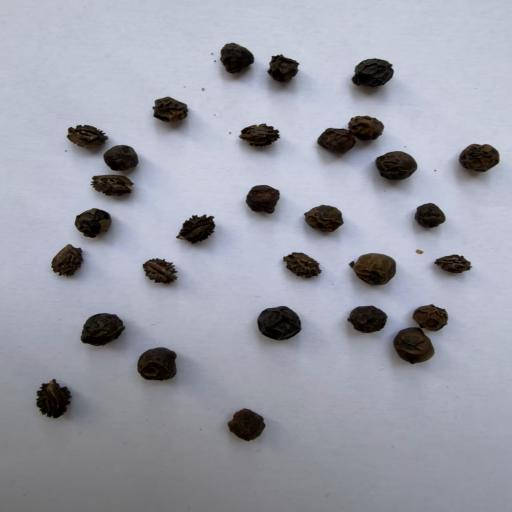Black_pepper: (214, 407, 276, 448), (345, 54, 407, 94), (68, 310, 132, 348), (252, 302, 304, 346), (127, 345, 184, 383), (70, 203, 119, 242), (300, 202, 354, 237), (369, 147, 420, 184), (212, 41, 258, 82), (146, 96, 201, 130), (456, 144, 512, 176), (393, 328, 436, 368), (349, 252, 399, 286), (345, 300, 389, 338), (407, 297, 457, 329), (407, 196, 451, 229), (244, 184, 284, 220), (263, 52, 303, 86), (313, 126, 355, 158), (102, 144, 144, 174), (345, 114, 389, 138)
papaya_seed: (32, 377, 90, 426), (177, 207, 223, 252), (134, 254, 186, 289), (427, 253, 484, 281), (61, 119, 109, 151), (280, 250, 328, 282), (230, 121, 282, 150), (47, 244, 87, 280), (87, 176, 137, 202)
